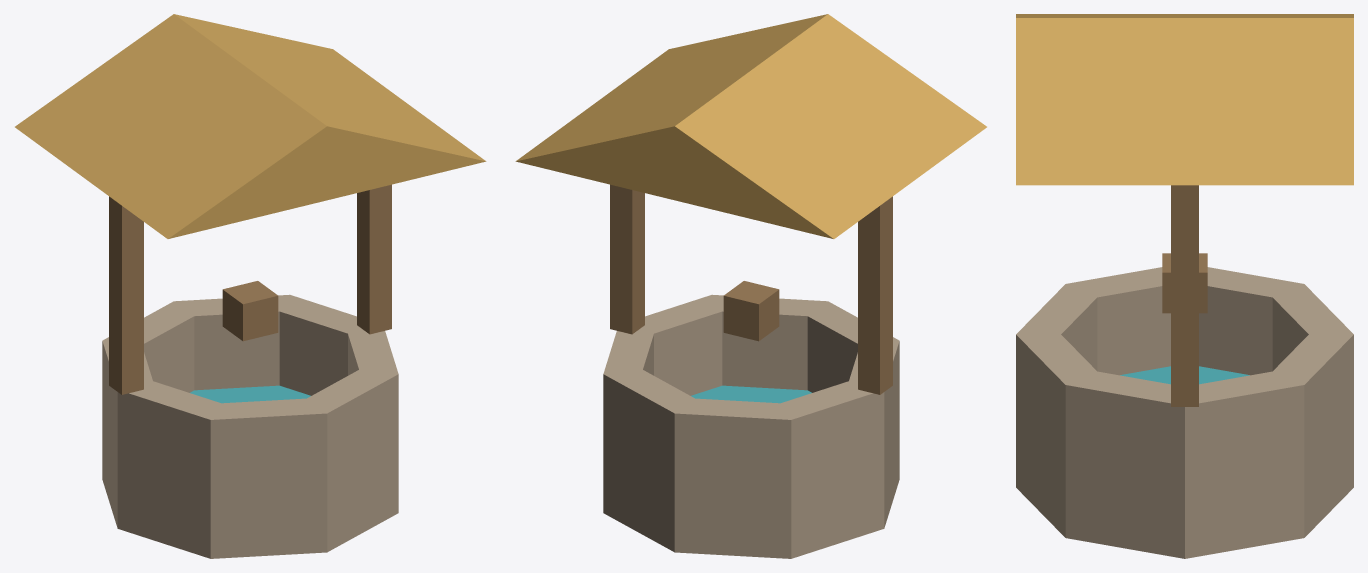
Rendered from well.glb.
The picture shows the model from 3 angles, left to right: view 1: azimuth 30°, elevation 25°; view 2: azimuth 150°, elevation 25°; view 3: azimuth 270°, elevation 25°; orthographic projection. The views are drawn at different scales.
Parts seen in each view (by area): view 1: sand-well; view 2: sand-well; view 3: sand-well.
Part boxes in pixels (x1,y1,x2,y2): sand-well: (15, 14, 486, 558); sand-well: (515, 14, 986, 558); sand-well: (1016, 14, 1353, 558).
Bounding box in the file's own units: 0.72 × 0.92 × 0.6.
